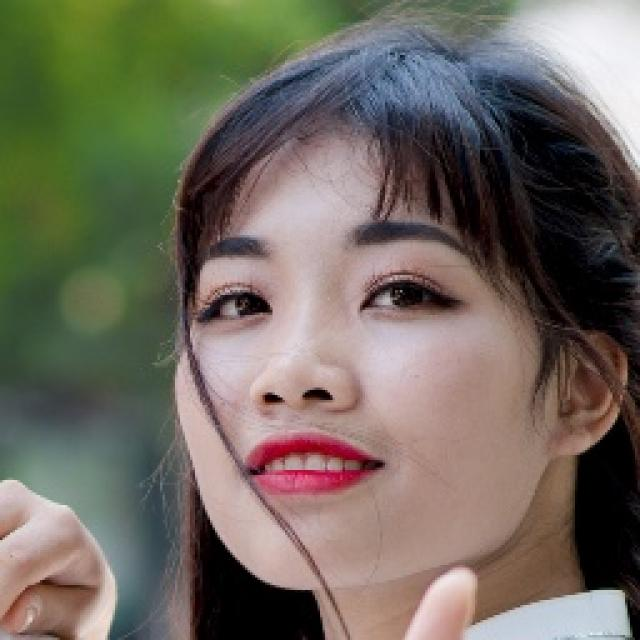earlobe: (544, 404, 608, 456)
eye: (359, 279, 454, 312), (200, 288, 276, 321)
nose: (254, 390, 348, 429)
wholeear: (544, 327, 628, 455)
